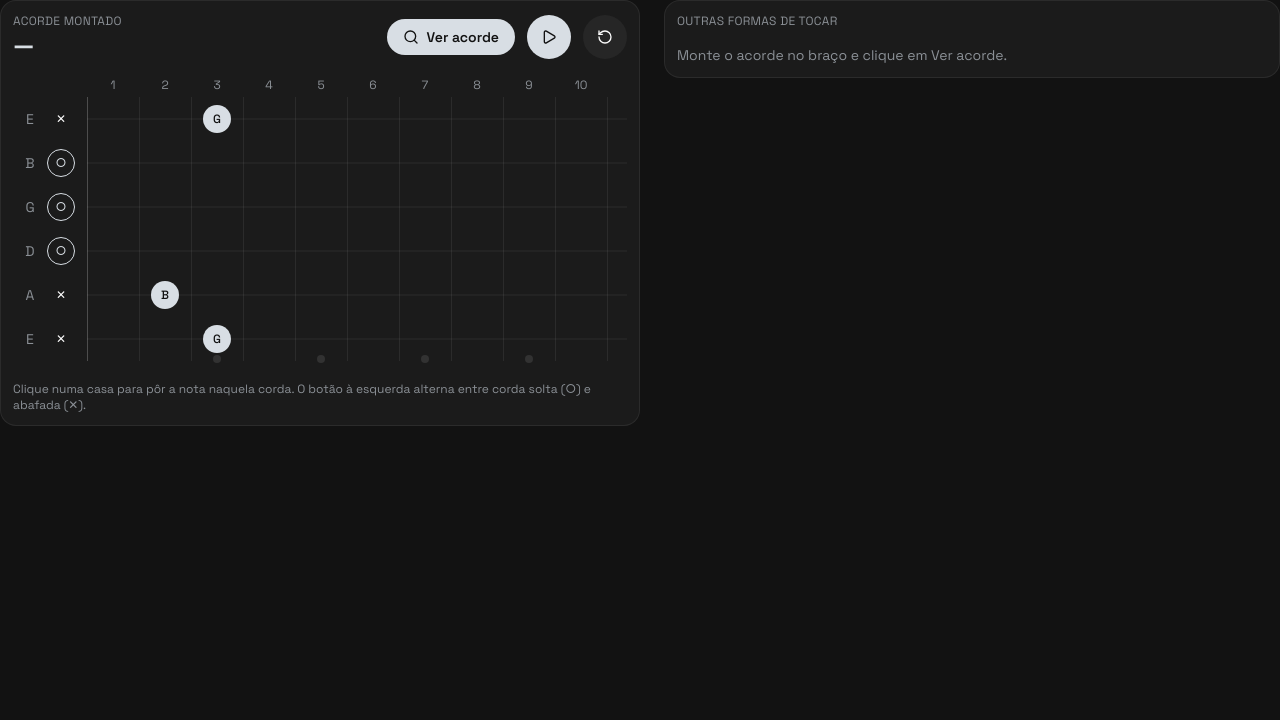
Test: ChordPanel › progressions › builds a suggested chord on the neck when it is picked
The width and height of the screenshot is (1280, 720).
What coordinates should you click on to do the following:
click the button "Ver acorde"
I would click on:
 (451, 37)
Its box is [386,19,515,55].
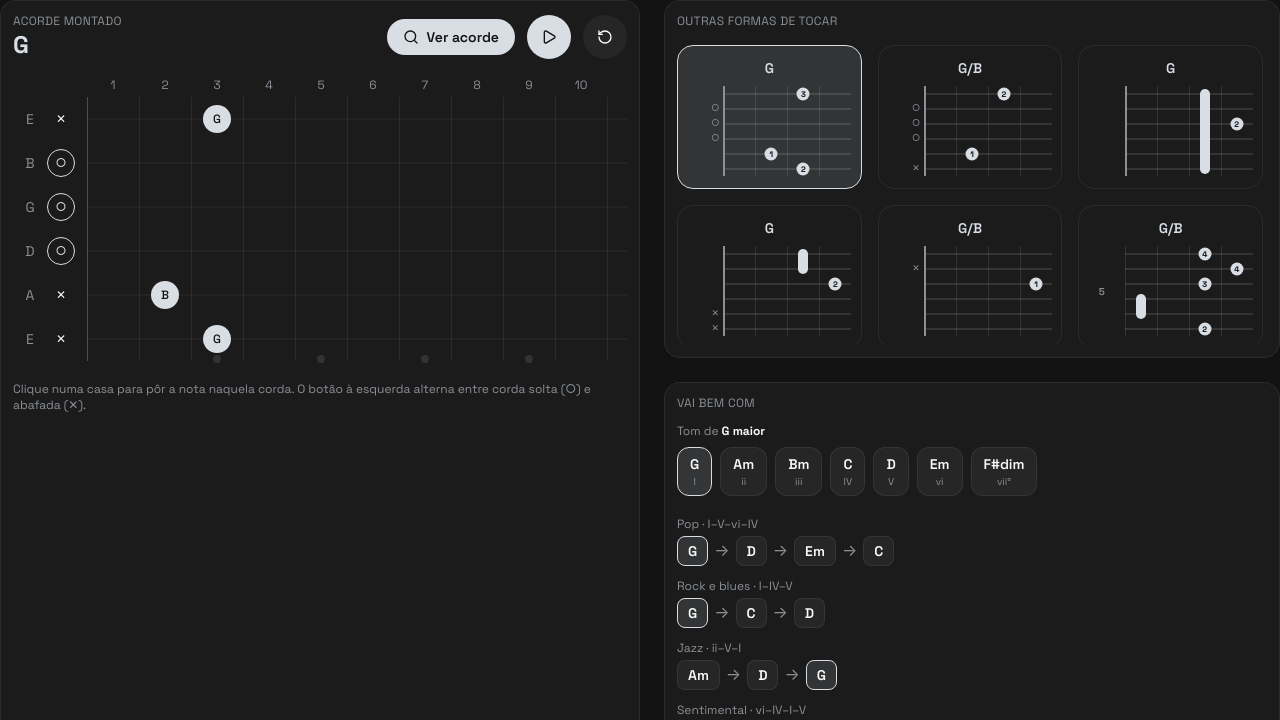
What coordinates should you click on to do the following:
click the button with aria-label "Montar Em, grau vi"
I would click on:
 (940, 472)
Its box is [917,447,962,496].
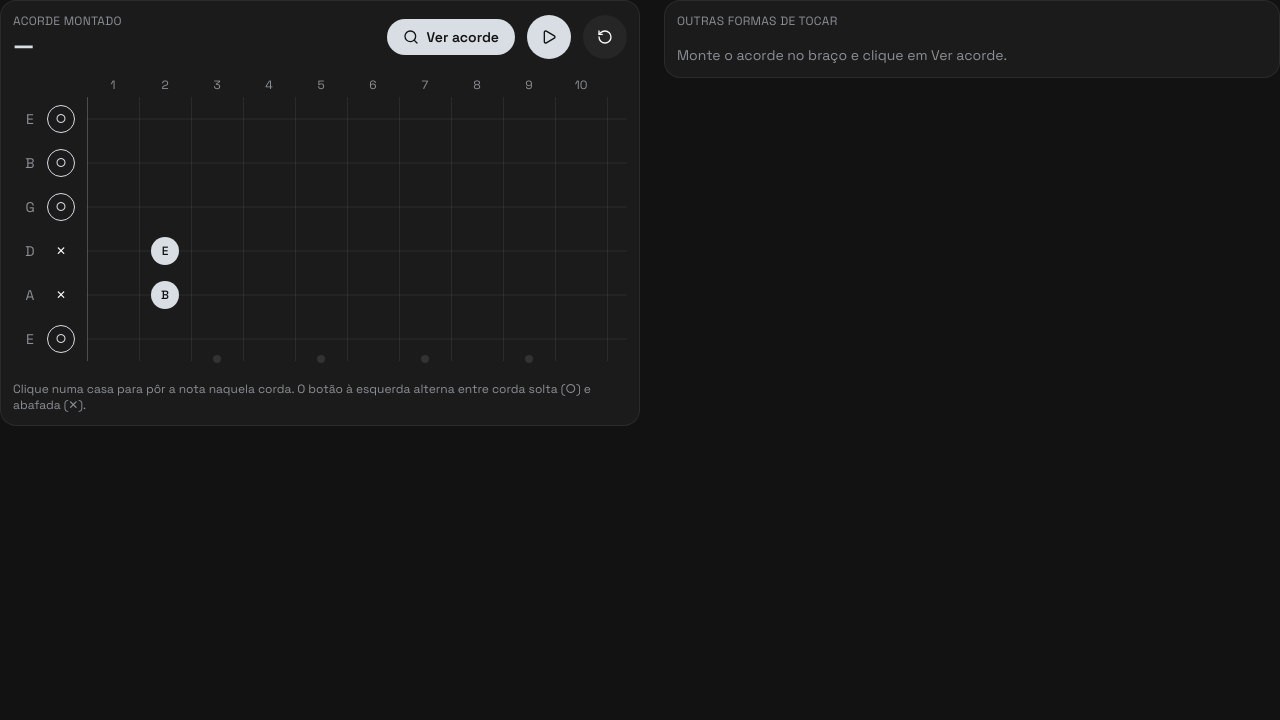
What coordinates should you click on to do the following:
click the button "Ver acorde"
I would click on:
 (451, 37)
Its box is [386,19,515,55].
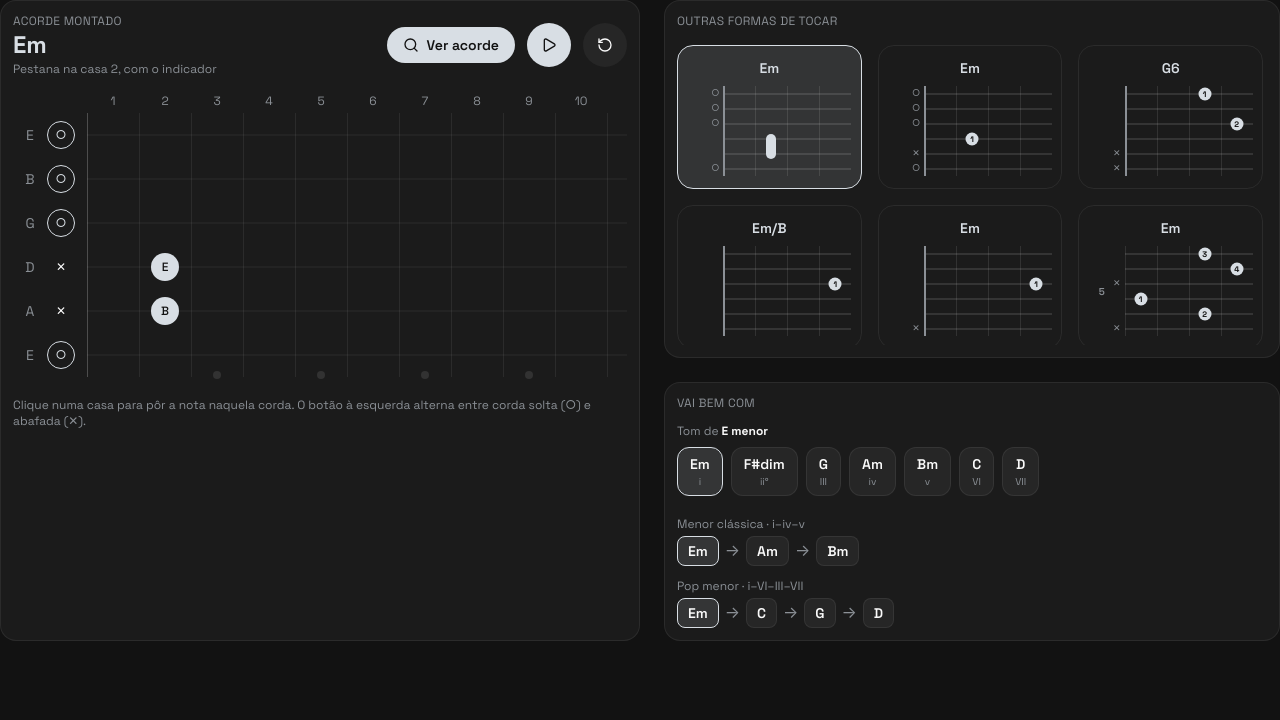
Result: the text with test id "chord-name" reads "Em" at [13,29,47,60]
